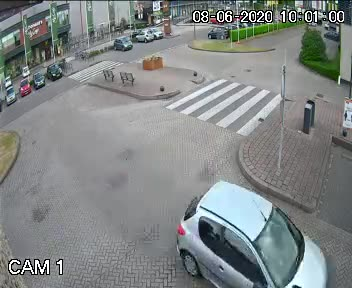car: (158, 183, 352, 288)
